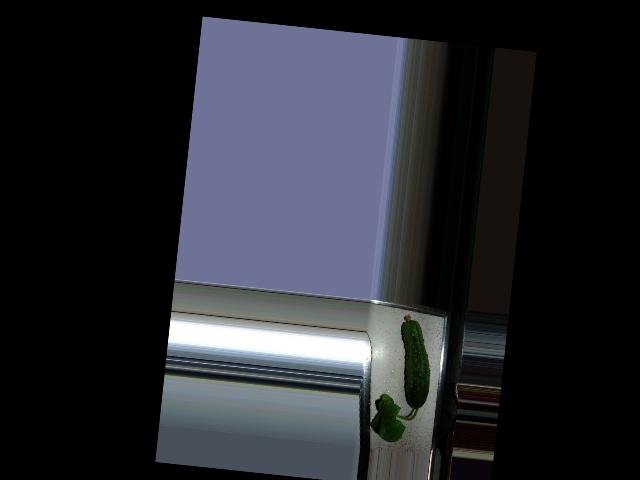cucumber: (393, 314, 436, 410)
